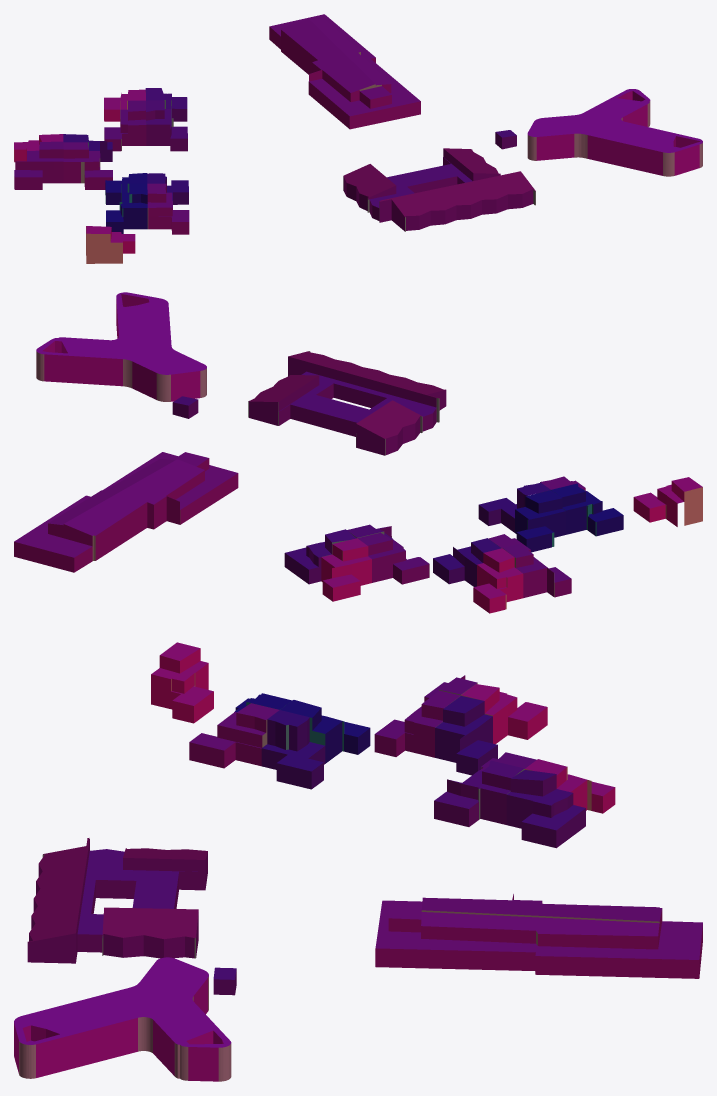
File: buildings_4_4.glb
The picture shows the model from 3 angles, top to bottom: view 1: azimuth 30°, elevation 25°; view 2: azimuth 150°, elevation 25°; view 3: azimuth 270°, elevation 25°; orthographic projection. The views are drawn at different scales.
Parts seen in each view (by area): view 1: buildings_4_4; view 2: buildings_4_4; view 3: buildings_4_4.
Part boxes in pixels (x1,y1,x2,y2): buildings_4_4: (14,14,702,263); buildings_4_4: (14,292,702,613); buildings_4_4: (14,642,702,1081).
Size of the model in its own units: 169 by 9.23 by 124.
